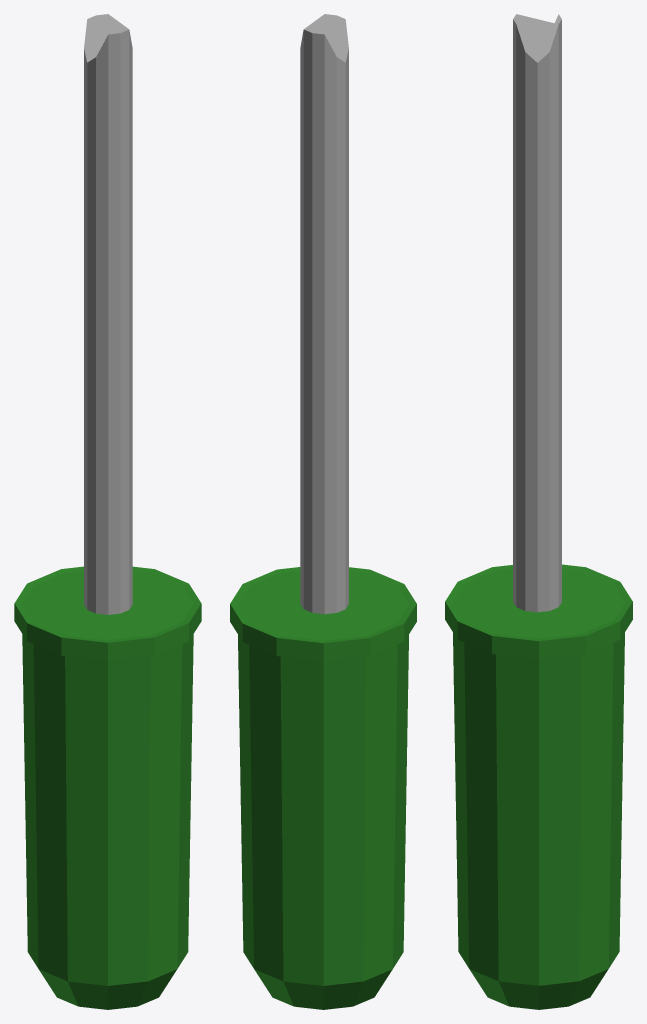
File: Destornillador_Verde.fbx
3 views of the same model, side by side, from view 1: azimuth 30°, elevation 25°; view 2: azimuth 150°, elevation 25°; view 3: azimuth 270°, elevation 25° (orthographic).
Parts seen in each view (by area): view 1: Mango.003, Vastago.002; view 2: Mango.003, Vastago.002; view 3: Mango.003, Vastago.002.
Part boxes in pixels (x1,y1,x2,y2): Mango.003: (14, 566, 201, 1009); Vastago.002: (84, 14, 132, 614); Mango.003: (230, 567, 416, 1009); Vastago.002: (300, 14, 348, 614); Mango.003: (445, 564, 632, 1009); Vastago.002: (513, 14, 561, 612).
Size of the model in its own units: 143 by 810 by 143.
